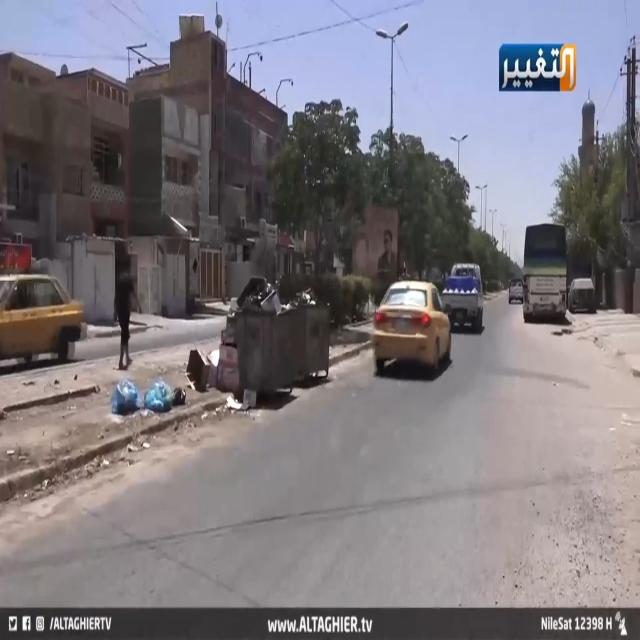high trash: (188, 276, 330, 409)
less trash: (111, 378, 185, 414)
